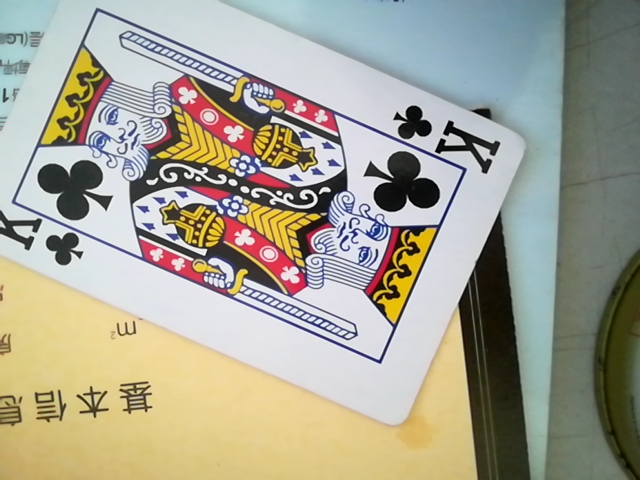mh k: (0, 5, 529, 431)
